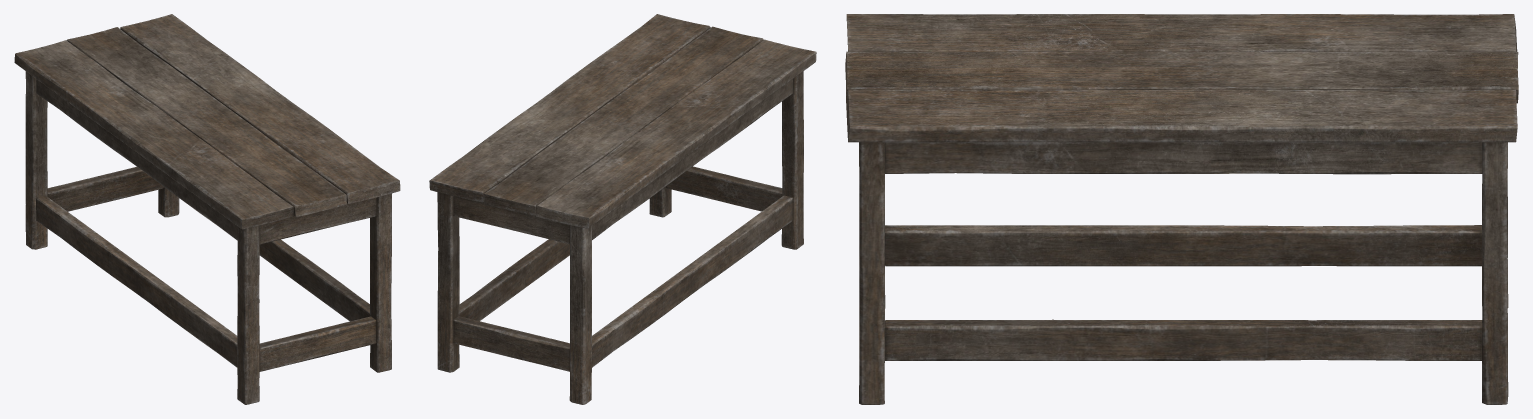
Rendered from wood-table.obj.
3 views of the same model, side by side, from view 1: azimuth 30°, elevation 25°; view 2: azimuth 150°, elevation 25°; view 3: azimuth 270°, elevation 25° (orthographic). The views are drawn at different scales.
Parts seen in each view (by area): view 1: Wooden_table; view 2: Wooden_table; view 3: Wooden_table.
Part boxes in pixels (<box>): Wooden_table: <box>14,14,400,404</box>; Wooden_table: <box>429,14,816,404</box>; Wooden_table: <box>845,14,1518,404</box>.
Size of the model in its own units: 0.6389 by 0.7313 by 1.59.
1 material, 1 textured.
